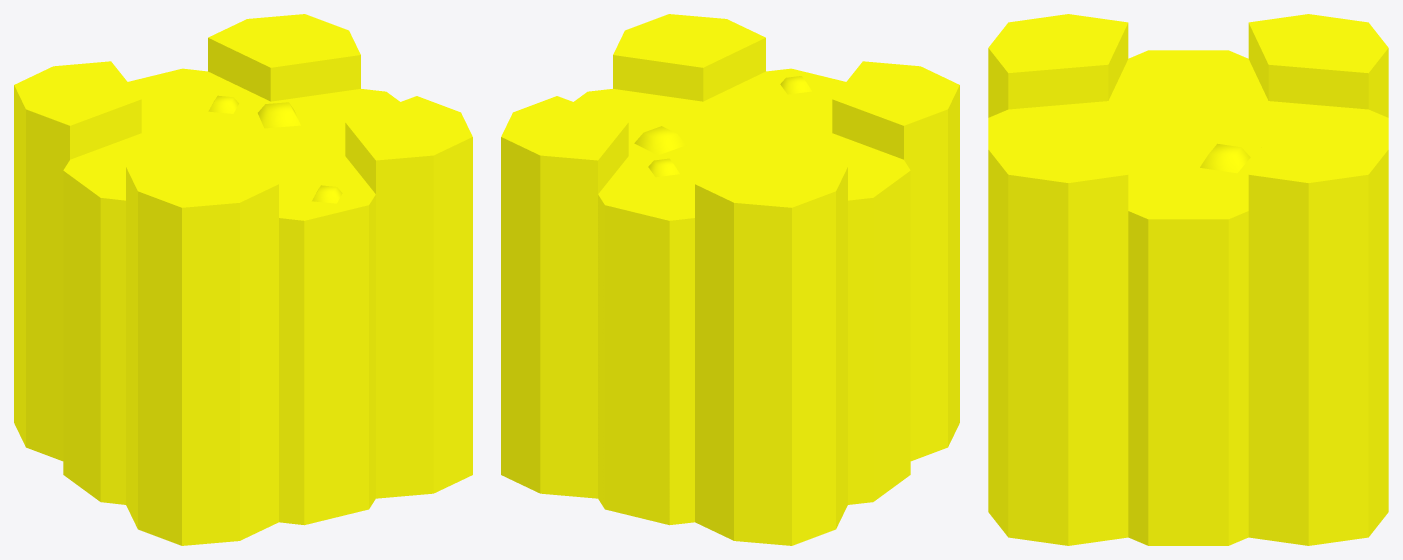
The model's file is _fbx_all_rocks-high.glb.
3 renders of one model, left to right at view 1: azimuth 30°, elevation 25°; view 2: azimuth 150°, elevation 25°; view 3: azimuth 270°, elevation 25°, orthographic. The views are drawn at different scales.
Visible parts, largest first — view 1: rocks-high; view 2: rocks-high; view 3: rocks-high.
Part boxes in pixels (left/top/right/bottom): rocks-high: left=14, top=14, right=472, bottom=545; rocks-high: left=501, top=14, right=959, bottom=545; rocks-high: left=988, top=14, right=1388, bottom=545.
Bounding box in the file's own units: 1 × 1 × 1.
Materials: 1 (1 with a texture image).
